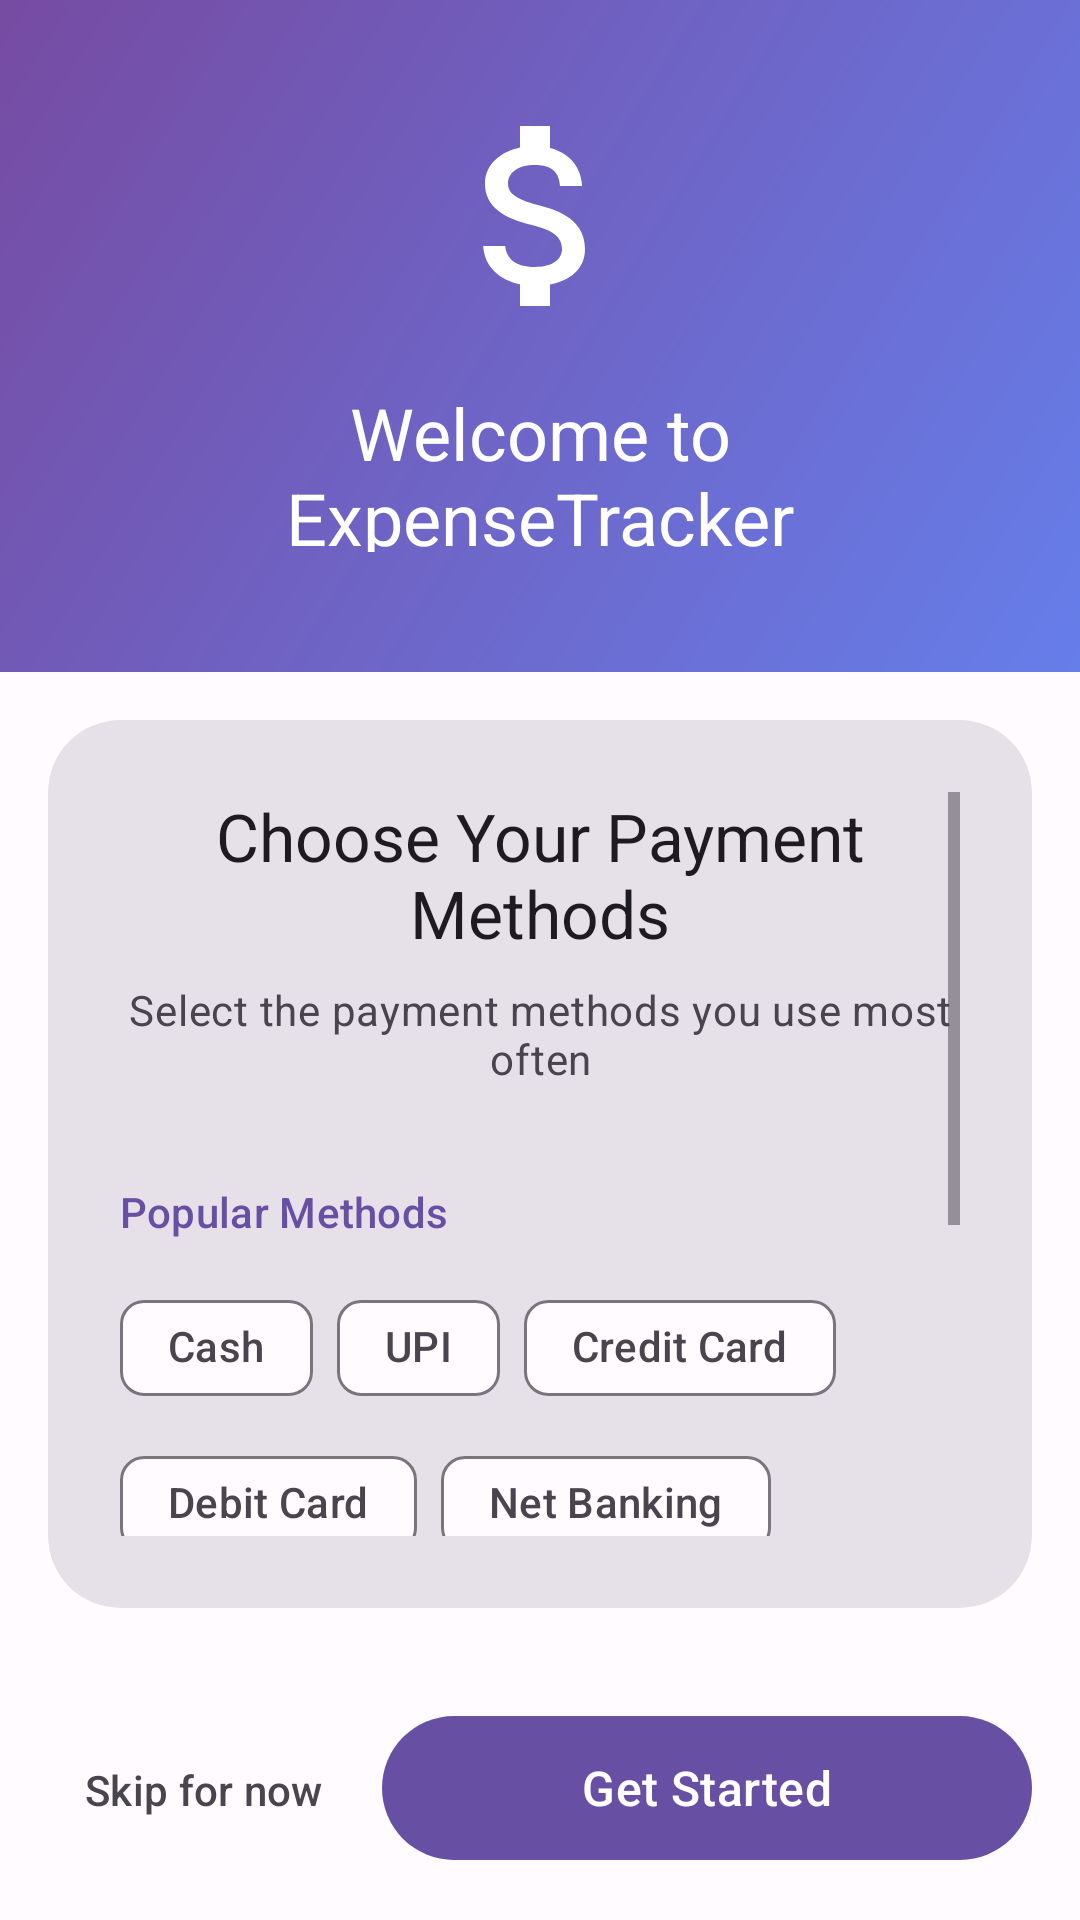

Named icons in this screenshot (1080px×1920px) and their bounding boxes, (x1, y1, x2, y2):
ExpenseTracker app icon: (483, 126, 585, 306)
